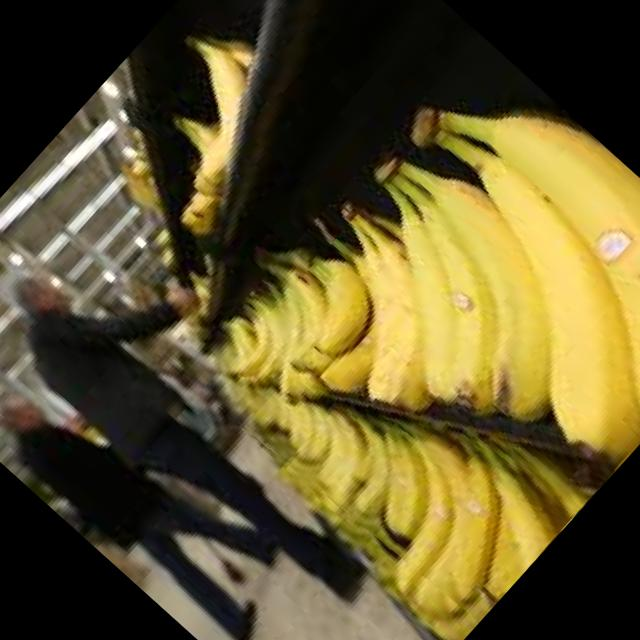Organic: (173, 31, 640, 634), (102, 22, 299, 220)
